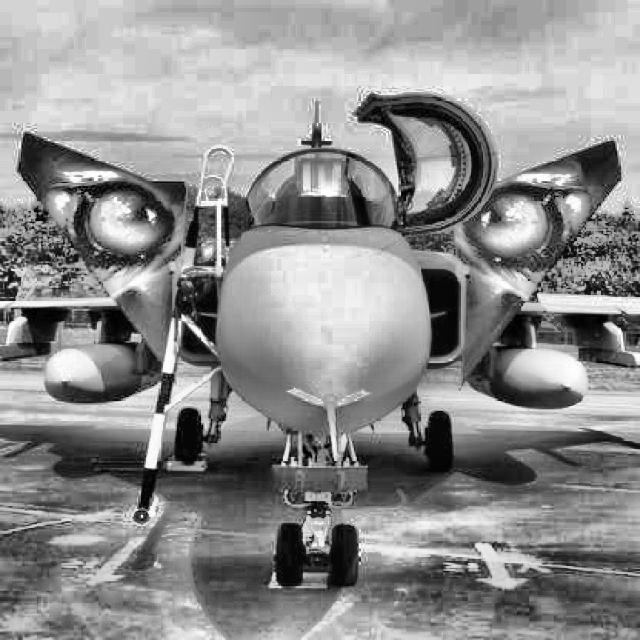JAS39: (1, 92, 639, 586)
